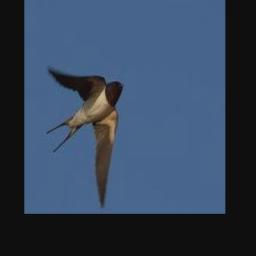Swallow: (46, 67, 123, 209)
